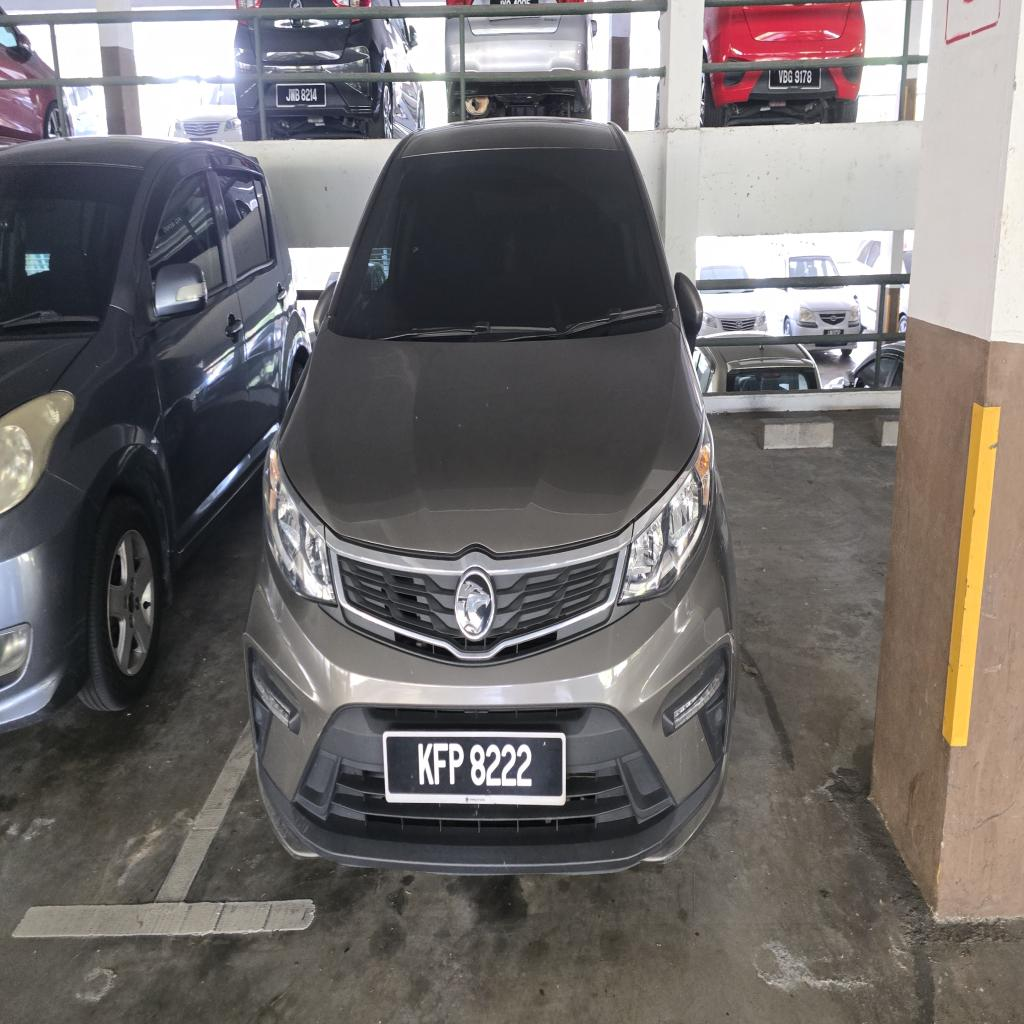car: (245, 119, 738, 873)
car plate: (384, 731, 565, 805)
